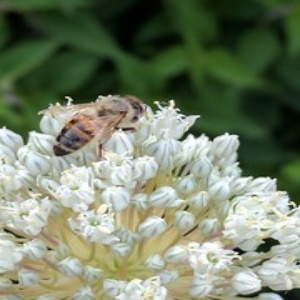bee: (50, 92, 147, 158)
